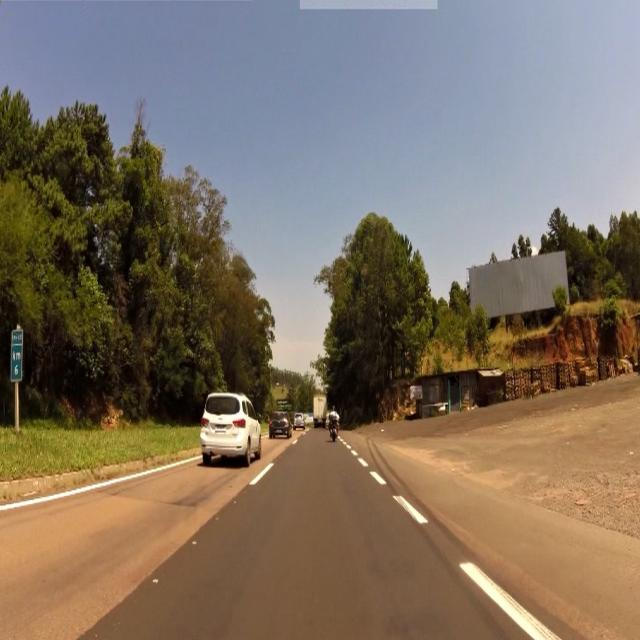RQ: (12, 331, 22, 381)
